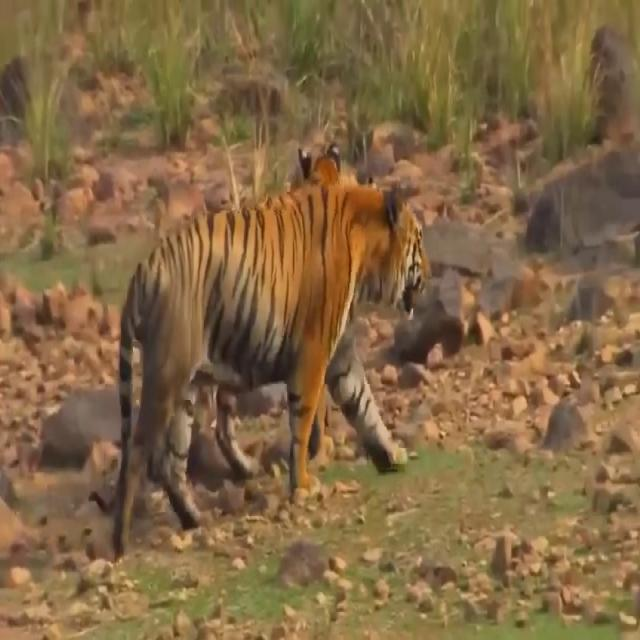tiger: (88, 184, 434, 560)
